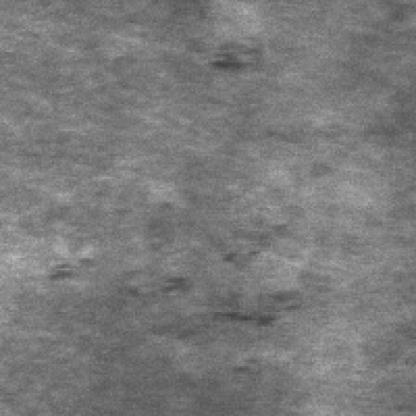rolled-in_scale: (60, 216, 310, 333), (181, 31, 273, 73)
